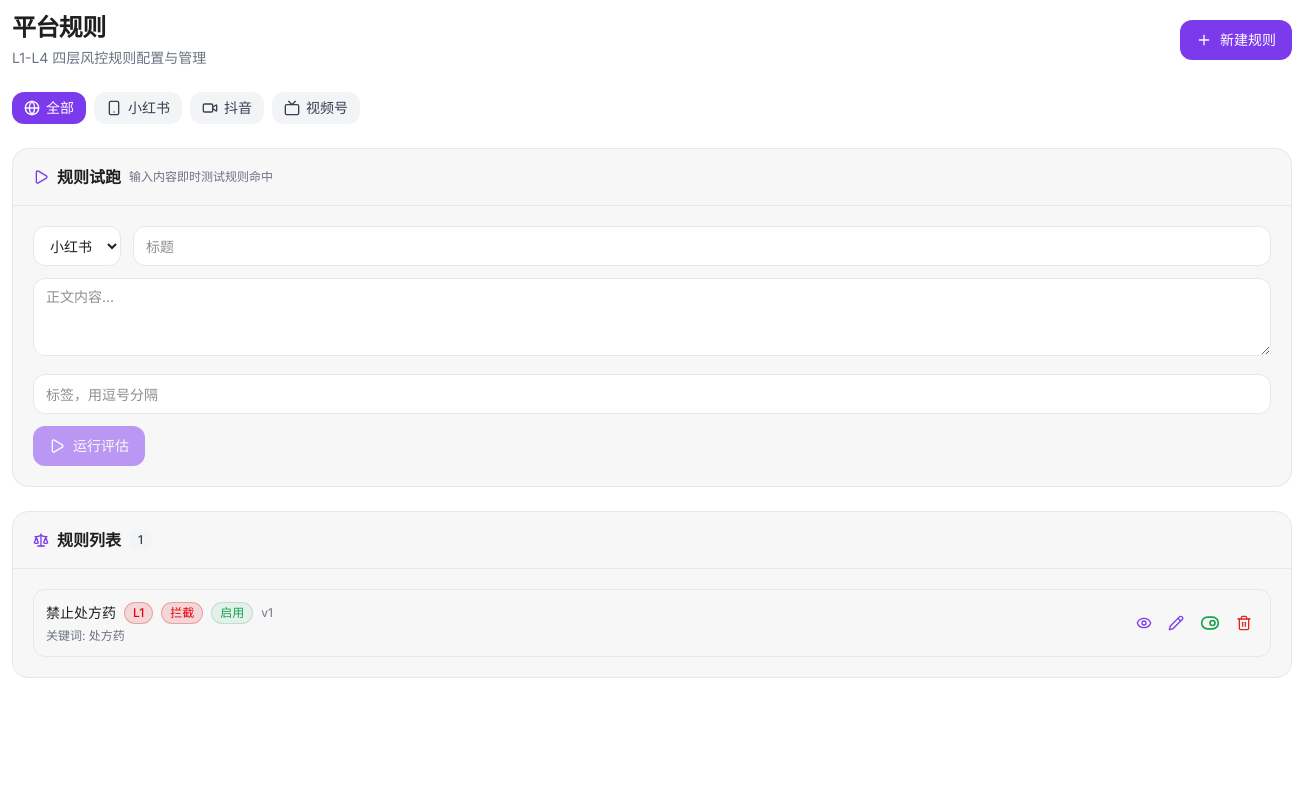
Test case: PlatformRulesPage — Copilot 适配 › opens detail side panel when clicking detail
This screenshot has width=1304, height=812.
What coordinates should you click on to do the following:
click the button titled "详情"
I would click on:
 (1144, 623)
Its box is x1=1130 y1=609 x2=1158 y2=637.
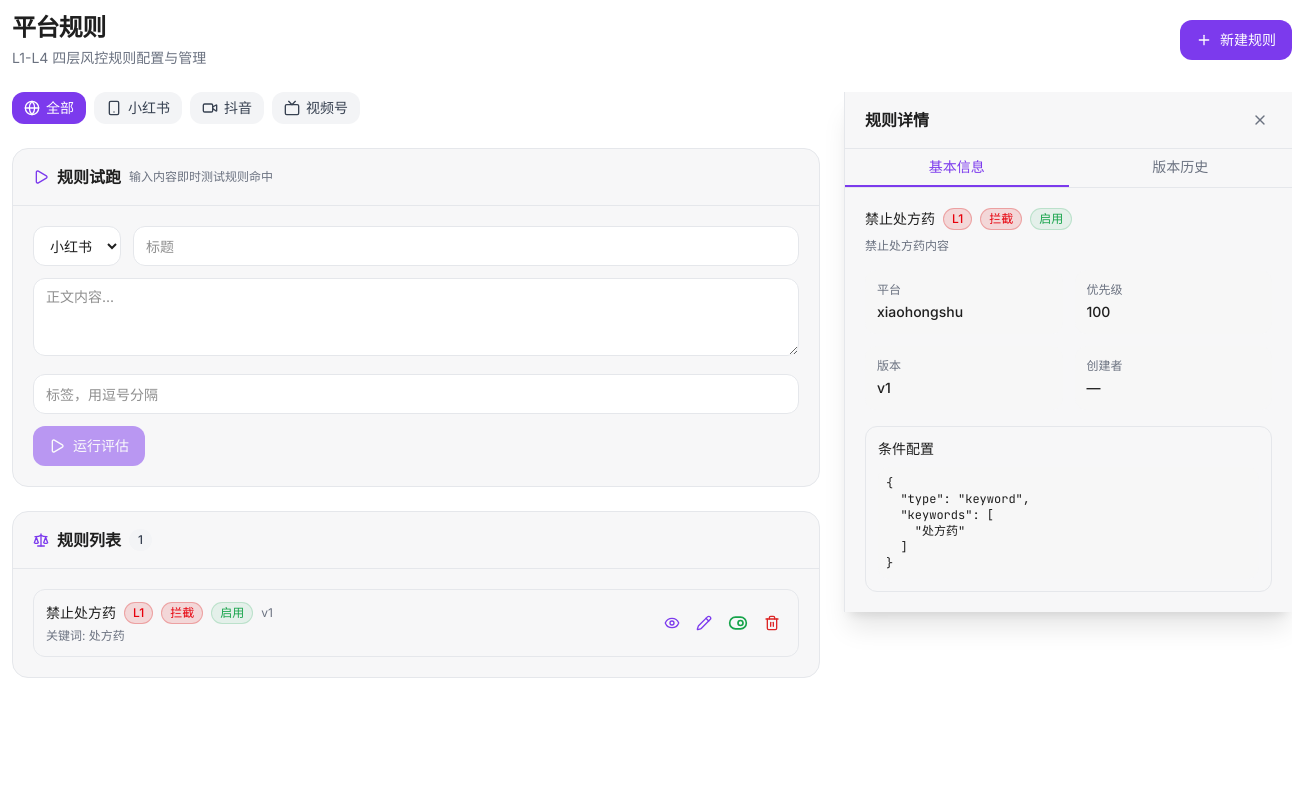
Now the heading "规则详情" is shown, box x1=865 y1=108 x2=929 y2=132
Now the element that starts with "规则详情" is shown, box x1=844 y1=92 x2=1292 y2=612
